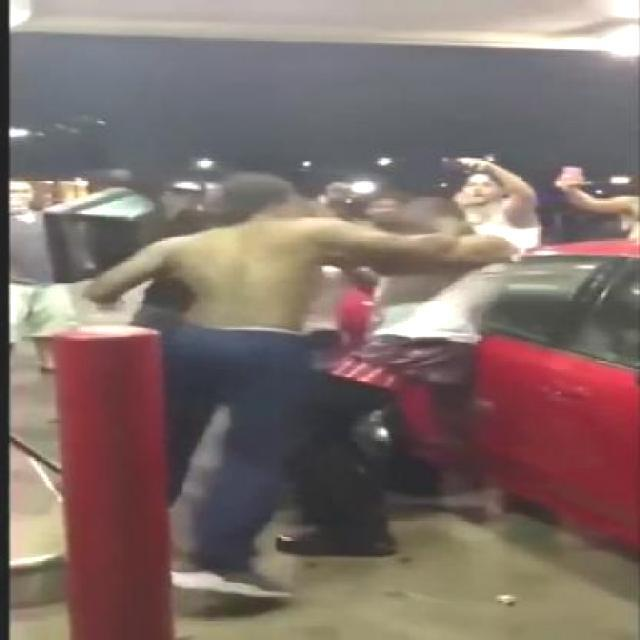fight: (80, 177, 522, 608)
